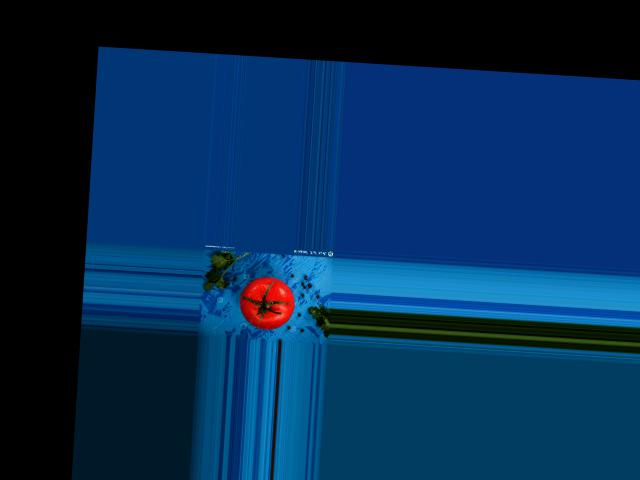tomato: (237, 275, 295, 330)
